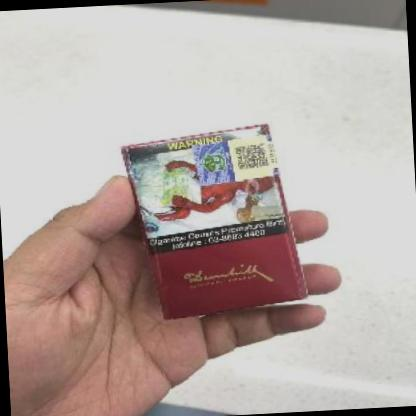objects: (119, 122, 308, 321)
